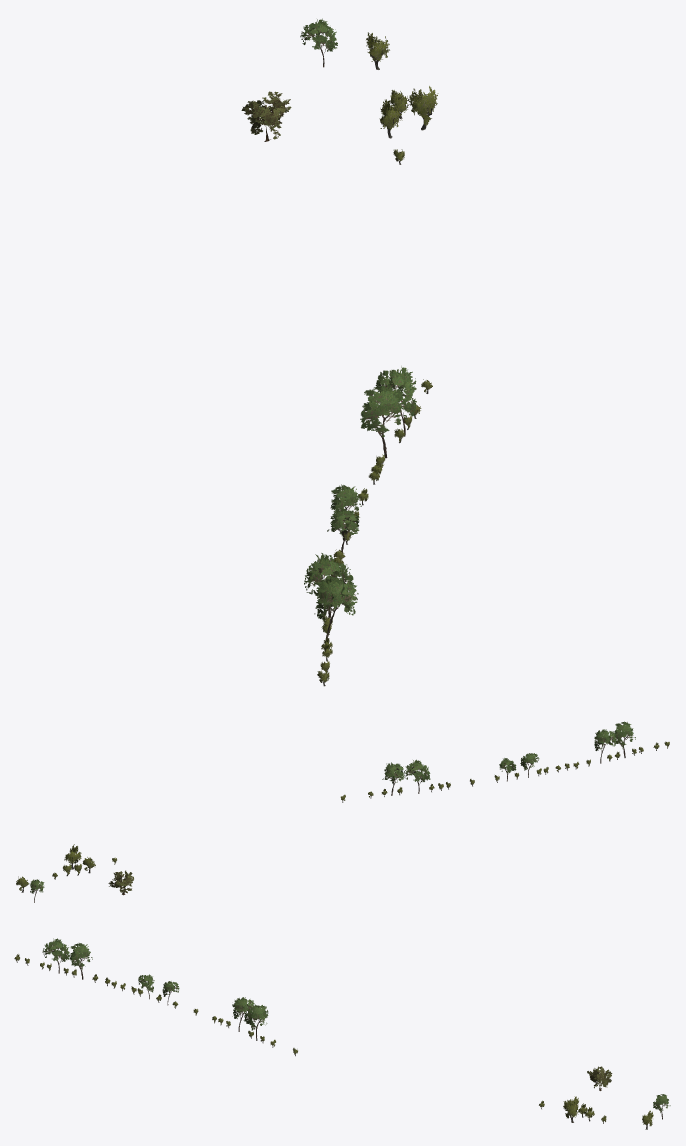
3 renders of one model, top to bottom at view 1: azimuth 30°, elevation 25°; view 2: azimuth 150°, elevation 25°; view 3: azimuth 270°, elevation 25°, orthographic. The views are drawn at different scales.
Parts seen in each view (by area): view 1: tree_small_02 street foliage, island_tree_01 street foliage, jacaranda_tree street foliage; view 2: tree_small_02 street foliage, island_tree_01 street foliage, jacaranda_tree street foliage; view 3: tree_small_02 street foliage, island_tree_01 street foliage, jacaranda_tree street foliage.
Part boxes in pixels (box(x1,y1,x2,y2)): tree_small_02 street foliage: box(300, 18, 416, 619); island_tree_01 street foliage: box(317, 32, 438, 682); jacaranda_tree street foliage: box(241, 91, 291, 139); tree_small_02 street foliage: box(29, 721, 635, 893); island_tree_01 street foliage: box(16, 741, 669, 890); jacaranda_tree street foliage: box(108, 870, 133, 893); tree_small_02 street foliage: box(42, 938, 670, 1112); island_tree_01 street foliage: box(14, 954, 653, 1126); jacaranda_tree street foliage: box(587, 1066, 612, 1088).
Size of the model in its own units: 216 by 19.91 by 349.
Materials: 6 (6 with a texture image).
